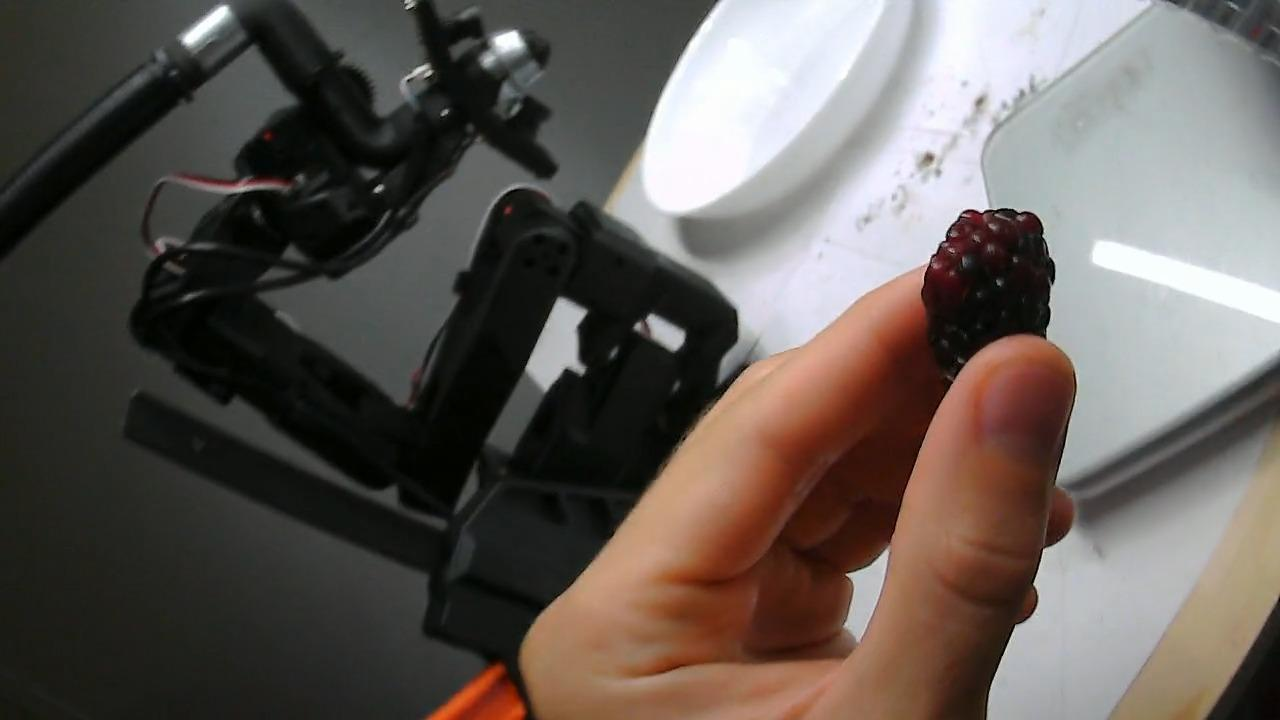berry: (921, 208, 1055, 380)
red drouplet: (935, 236, 968, 260), (957, 209, 987, 230), (939, 270, 962, 292), (925, 256, 943, 282)
